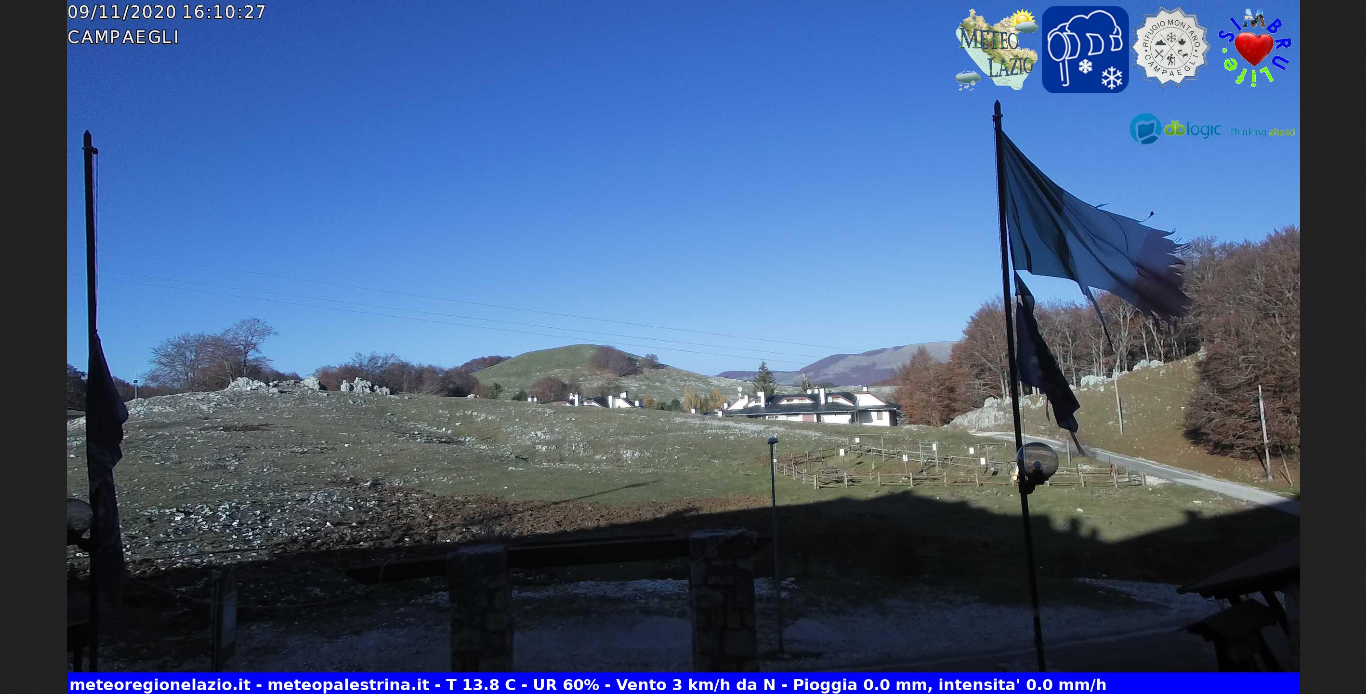maybe: (986, 99, 1205, 335)
no: (997, 286, 1100, 454)
